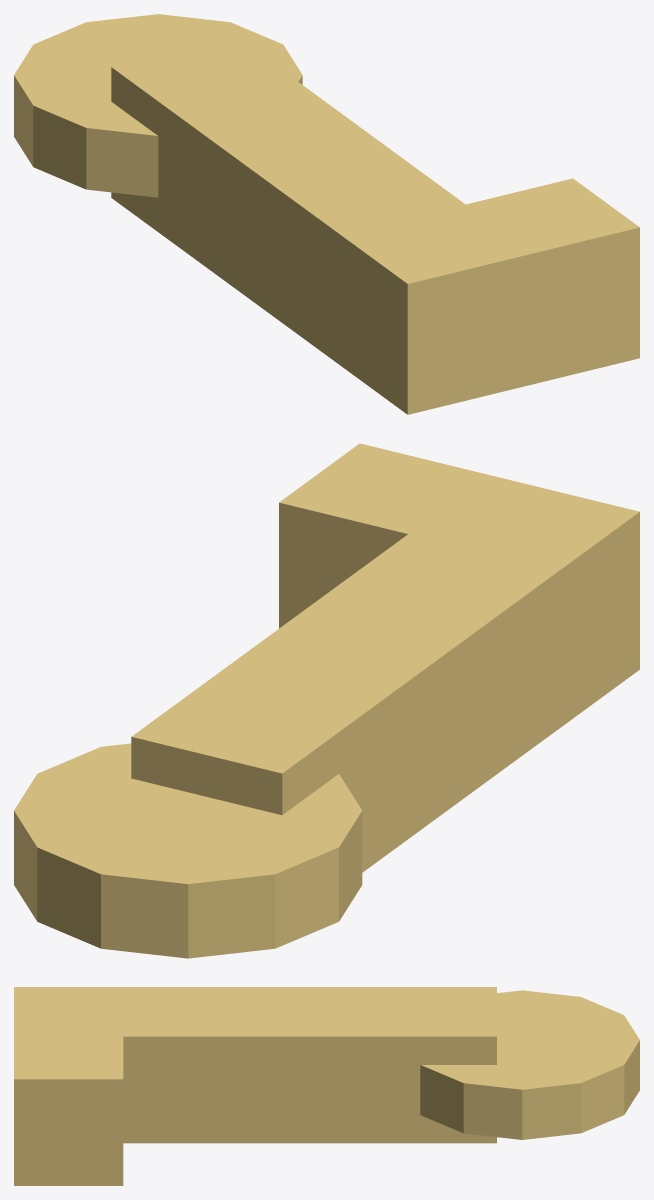
File: Collectible_Key.glb
3 renders of one model, top to bottom at view 1: azimuth 30°, elevation 25°; view 2: azimuth 150°, elevation 25°; view 3: azimuth 270°, elevation 25°, orthographic. The views are drawn at different scales.
Visible parts, largest first — view 1: shaft_1, tooth_2, keyRing_0; view 2: shaft_1, keyRing_0, tooth_2; view 3: shaft_1, keyRing_0, tooth_2.
Boxes of the visible parts, x1,y1,x2,y2 form: shaft_1: (111, 36, 493, 370); tooth_2: (340, 178, 639, 414); keyRing_0: (14, 14, 302, 197); shaft_1: (131, 509, 593, 872); keyRing_0: (14, 743, 362, 958); tooth_2: (279, 443, 639, 709); shaft_1: (77, 987, 496, 1143); keyRing_0: (420, 990, 639, 1139); tooth_2: (14, 987, 123, 1185).
Size of the model in its own units: 0.165 by 0.07 by 0.3725.
